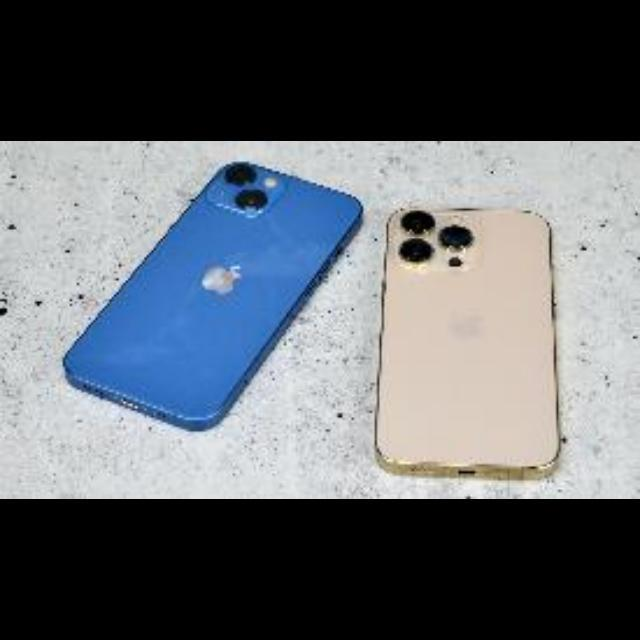Phone: (52, 158, 366, 426), (388, 203, 556, 482)
